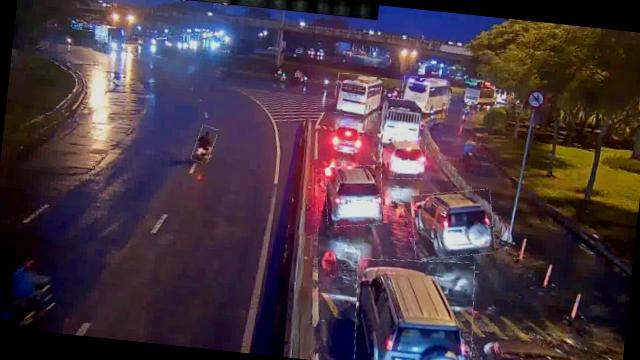Bike: (192, 125, 216, 164)
Bus: (334, 73, 388, 119), (400, 76, 451, 115)
Car: (349, 253, 480, 360), (408, 184, 498, 264), (322, 161, 387, 230), (379, 136, 428, 182), (329, 119, 364, 158)
Truck: (381, 98, 424, 142)
